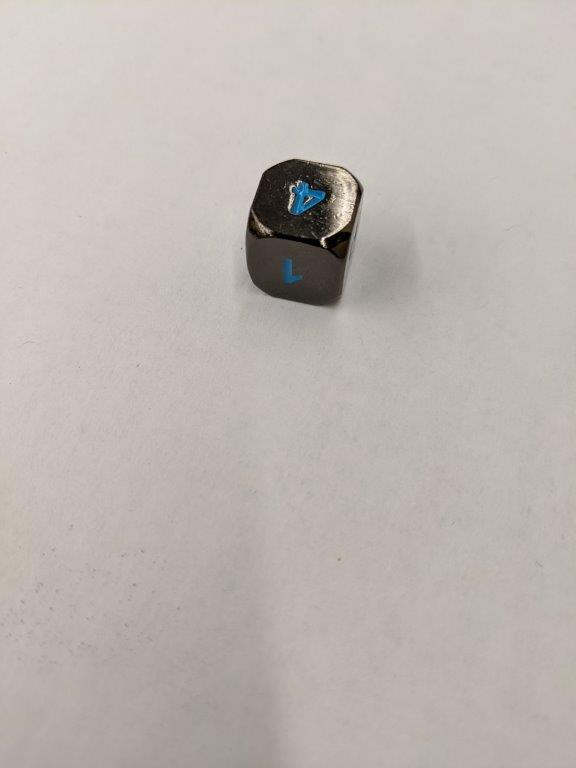d6-4: (245, 160, 363, 306)
